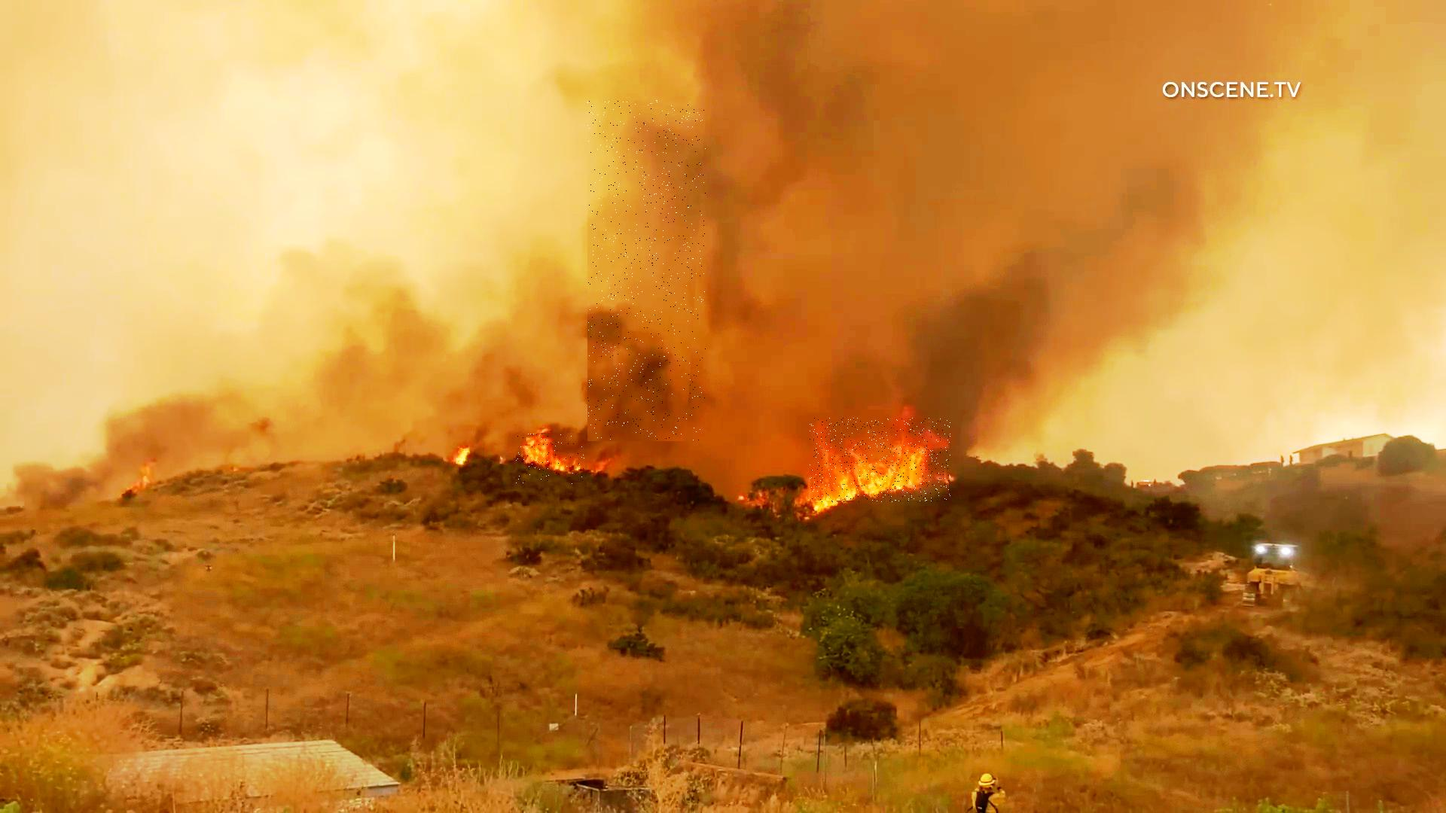fire: (810, 418, 951, 503), (516, 434, 585, 485)
smoke: (588, 100, 706, 441)
